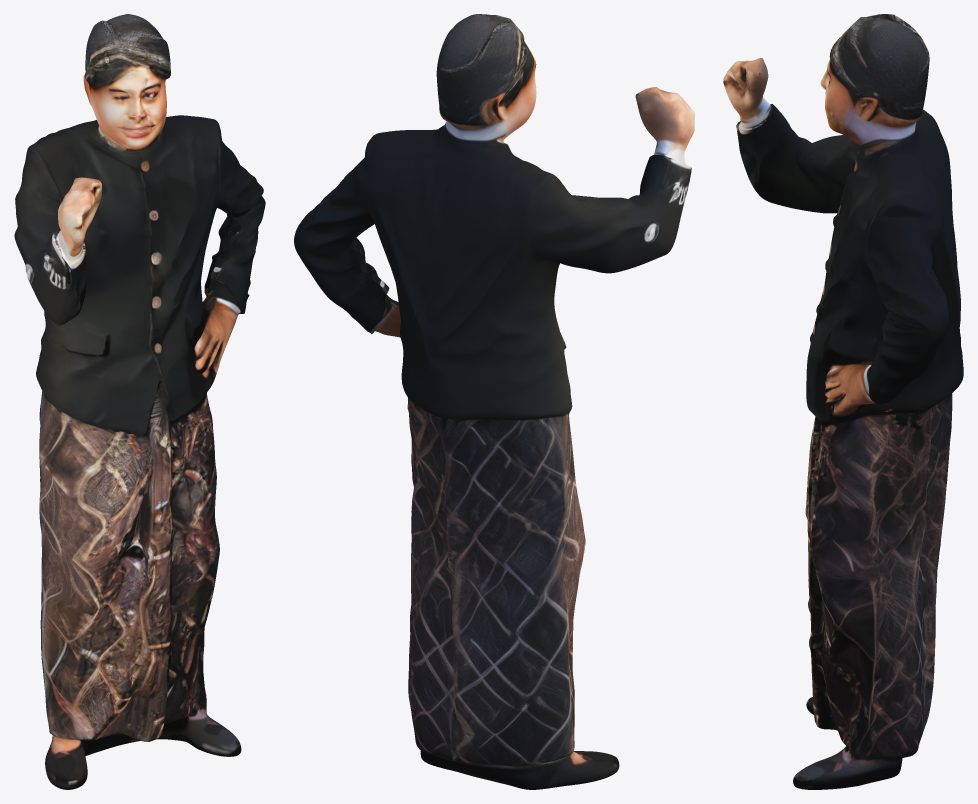
The model's file is base_basic_shaded.glb.
3 renders of one model, left to right at view 1: azimuth 30°, elevation 25°; view 2: azimuth 150°, elevation 25°; view 3: azimuth 270°, elevation 25°, orthographic. The views are drawn at different scales.
Visible parts, largest first — view 1: model; view 2: model; view 3: model.
Boxes of the visible parts, box(x1,y1,x2,y2) form: model: box(14, 14, 265, 789); model: box(294, 14, 694, 789); model: box(723, 14, 963, 789).
Bounding box in the file's own units: 0.7958 × 1.9 × 0.566.
1 material, 1 textured.
